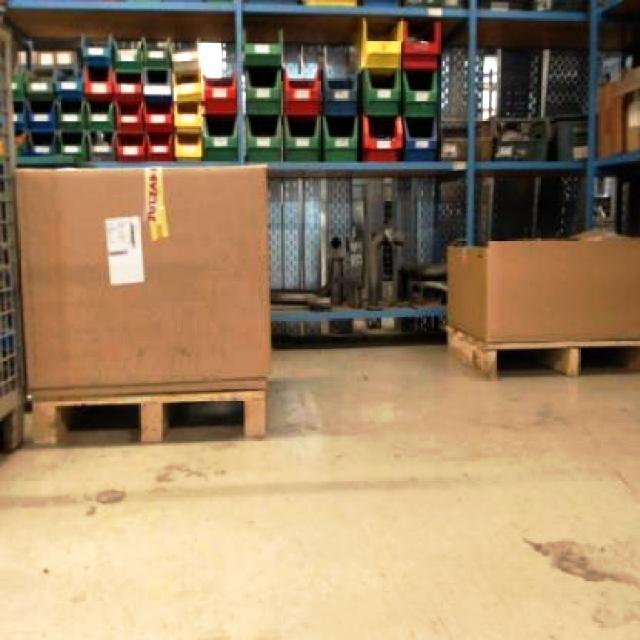ground: (0, 335, 638, 638)
pallet: (442, 0, 638, 377), (12, 163, 272, 445), (6, 14, 443, 165), (268, 166, 449, 342), (443, 229, 638, 378), (595, 45, 638, 368), (0, 2, 25, 511), (443, 325, 638, 378)
